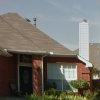Chimney: (65, 10, 95, 65)
